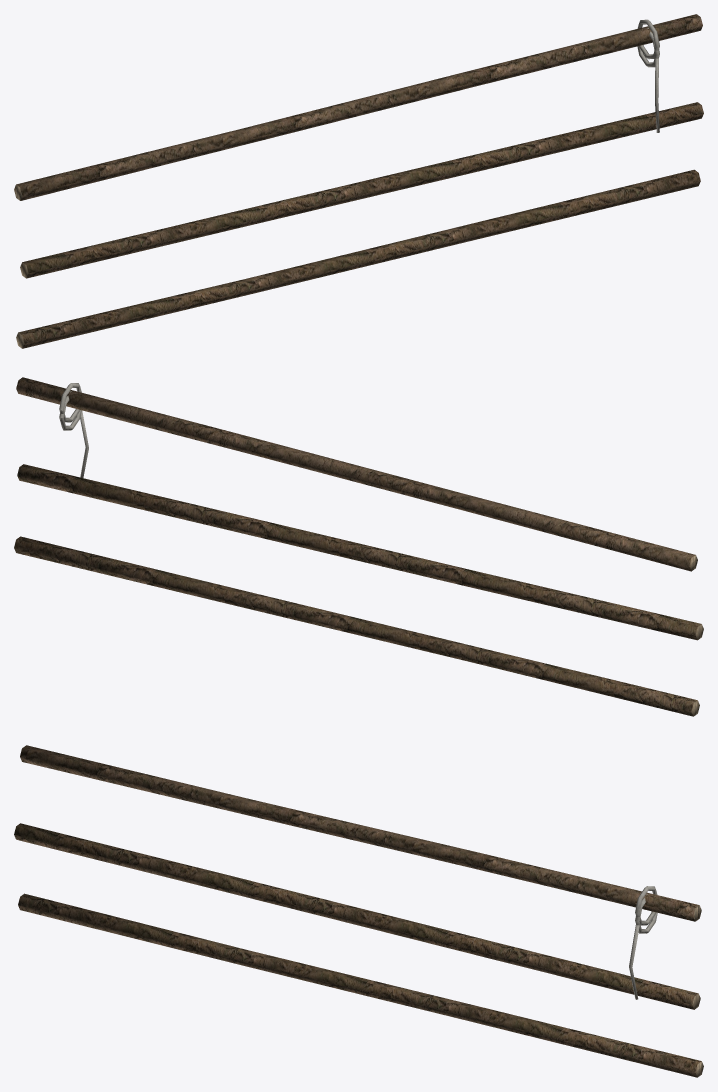
The model's file is lm_sr_slip_rails.glb.
3 views of the same model, one above another, from view 1: azimuth 30°, elevation 25°; view 2: azimuth 150°, elevation 25°; view 3: azimuth 330°, elevation 25° (orthographic).
Visible parts, largest first — view 1: lm_sr_slip_rails; view 2: lm_sr_slip_rails; view 3: lm_sr_slip_rails.
Part boxes in pixels (left/top/right/bottom): lm_sr_slip_rails: left=14, top=14, right=703, bottom=348; lm_sr_slip_rails: left=14, top=377, right=703, bottom=716; lm_sr_slip_rails: left=14, top=745, right=703, bottom=1077.
Size of the model in its own units: 3.48 by 0.8794 by 0.2151.
Materials: 1 (1 with a texture image).
